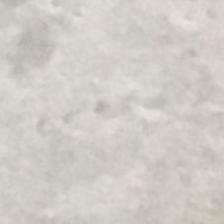Non_Crack: (22, 28, 196, 188)
